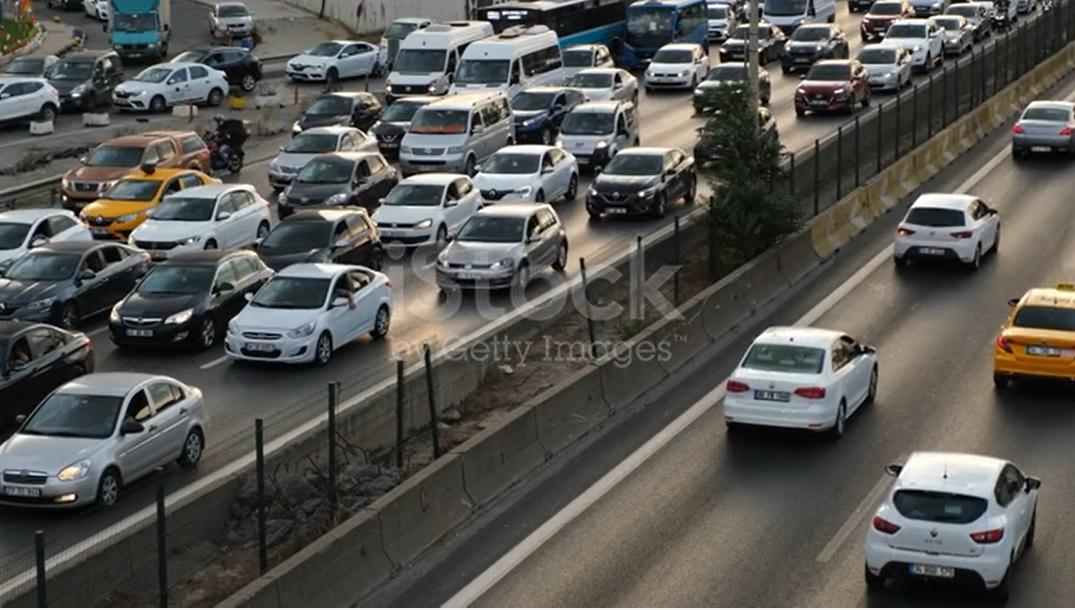bus: (621, 0, 722, 62)
car: (0, 358, 236, 540), (849, 431, 1065, 610), (725, 301, 896, 464), (230, 252, 407, 373), (121, 171, 304, 278), (433, 193, 597, 301), (100, 244, 267, 350), (0, 283, 126, 417), (48, 121, 236, 204), (885, 179, 1018, 290), (75, 157, 222, 242), (991, 261, 1075, 408), (447, 20, 576, 115), (566, 148, 707, 233), (0, 184, 111, 290), (369, 173, 478, 260), (386, 18, 501, 100), (399, 94, 524, 167), (273, 148, 403, 212), (254, 119, 373, 187), (469, 137, 581, 209), (107, 57, 241, 115), (1003, 93, 1075, 188), (552, 99, 647, 170), (780, 59, 880, 121), (167, 40, 270, 95), (686, 57, 779, 115), (46, 45, 123, 114), (288, 35, 387, 86), (283, 86, 388, 133), (562, 66, 646, 118), (873, 15, 949, 71), (0, 70, 63, 137), (851, 41, 914, 98), (783, 20, 846, 74), (641, 45, 706, 90), (199, 1, 270, 42), (923, 11, 977, 56), (719, 21, 772, 61), (854, 3, 909, 37), (561, 40, 610, 72)
truck: (104, 0, 180, 76)
